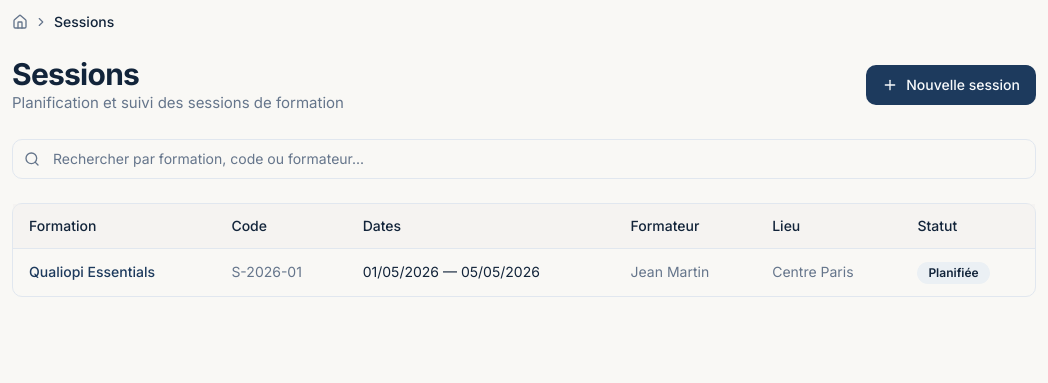
Test: SessionsListPage › shows an "aucun résultat" hint when search filters everything out
Type "xyz-no-match" into the field with placeholder "Rechercher par formation, code ou formateur..." at (524, 158), box [12,138,1036,178]
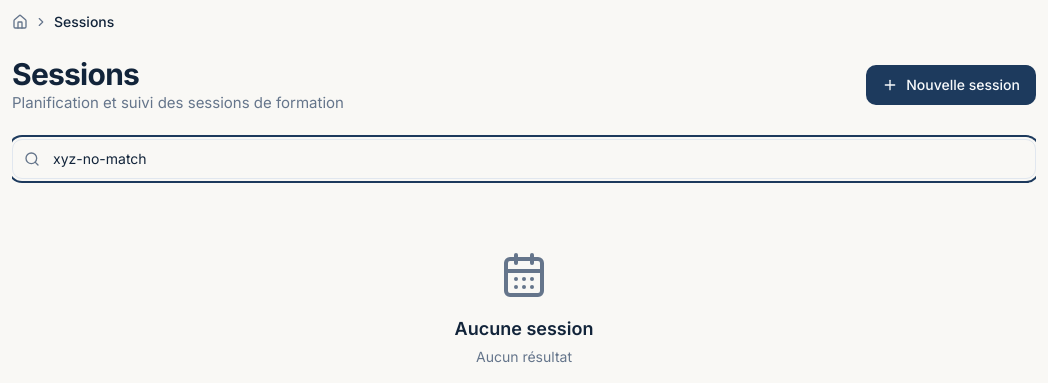
Expected: the heading "Aucune session" is shown, [455,314,593,342]
Expected: the text "Aucun résultat" is shown, [476,346,572,366]
